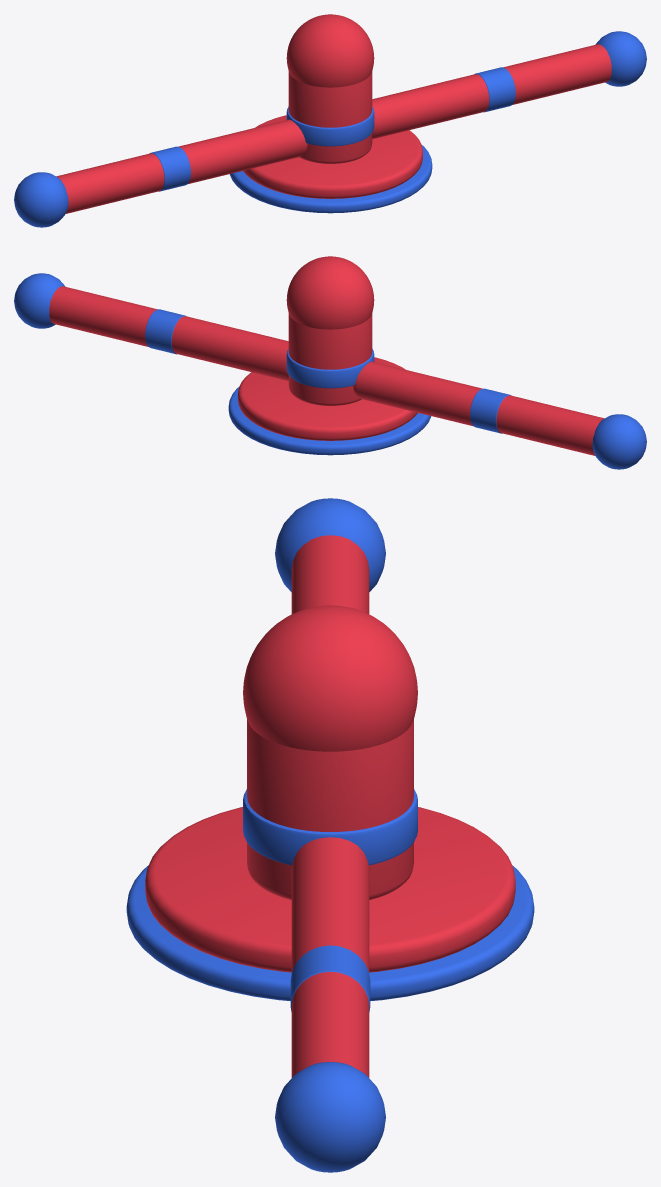
The model's file is SD_Sweeper_Small.fbx.
3 views of the same model, one above another, from view 1: azimuth 30°, elevation 25°; view 2: azimuth 150°, elevation 25°; view 3: azimuth 270°, elevation 25° (orthographic). The views are drawn at different scales.
Parts seen in each view (by area): view 1: Arm, Base; view 2: Arm, Base; view 3: Base, Arm.
Boxes of the visible parts, box(x1,y1,x2,y2) form: Arm: box(14, 31, 646, 227); Base: box(229, 14, 432, 213); Arm: box(14, 273, 646, 469); Base: box(228, 256, 431, 455); Base: box(126, 605, 534, 1000); Arm: box(275, 498, 385, 1172).
Size of the model in its own units: 7.8 by 1.82 by 2.2.
